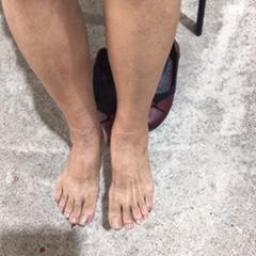Dorsal View -Both Feet-: (48, 100, 164, 235)
